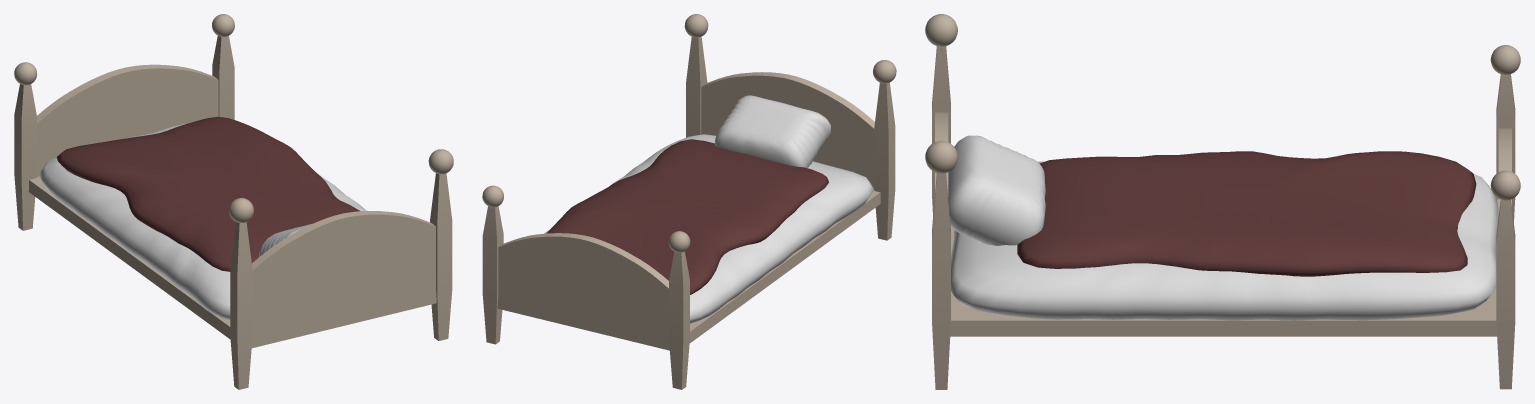
File: Lit3_3.fbx
3 renders of one model, left to right at view 1: azimuth 30°, elevation 25°; view 2: azimuth 150°, elevation 25°; view 3: azimuth 270°, elevation 25°, orthographic. The views are drawn at different scales.
Visible parts, largest first — view 1: pCylinder245, pCube954, pCube959, pCylinder247, pCube955, pCube956, pCube957, pCube960, pCube958, pCylinder246; view 2: pCylinder245, pCube959, pCylinder247, pCube954, pCylinder246, pCube955, pCube957, pCube960, pCube958, pCube956; view 3: pCylinder245, pCylinder247, pCube960, pCylinder246, pCube956, pCube958, pCube955, pCube957, pCube959.
Part boxes in pixels (<box>): pCylinder245: <box>56,116,360,271</box>; pCube954: <box>251,211,436,348</box>; pCube959: <box>37,64,218,176</box>; pCylinder247: <box>39,123,366,319</box>; pCube955: <box>229,198,253,389</box>; pCube956: <box>428,149,453,340</box>; pCube957: <box>14,62,37,230</box>; pCube960: <box>28,176,230,339</box>; pCube958: <box>212,14,234,119</box>; pCylinder246: <box>259,223,312,256</box>; pCylinder245: <box>547,139,828,294</box>; pCube959: <box>497,233,669,350</box>; pCylinder247: <box>544,134,873,323</box>; pCube954: <box>701,72,874,189</box>; pCylinder246: <box>715,95,830,167</box>; pCube955: <box>873,60,896,240</box>; pCube957: <box>668,231,690,389</box>; pCube960: <box>689,190,880,343</box>; pCube958: <box>482,185,503,344</box>; pCube956: <box>684,14,708,137</box>; pCylinder245: <box>1017,151,1476,276</box>; pCylinder247: <box>951,161,1498,320</box>; pCube960: <box>950,199,1498,336</box>; pCylinder246: <box>948,135,1045,245</box>; pCube956: <box>925,141,957,389</box>; pCube958: <box>1490,170,1520,389</box>; pCube955: <box>925,14,957,215</box>; pCube957: <box>1490,45,1520,222</box>; pCube959: <box>1498,128,1511,214</box>.
Size of the model in its own units: 82.19 by 66.59 by 147.
